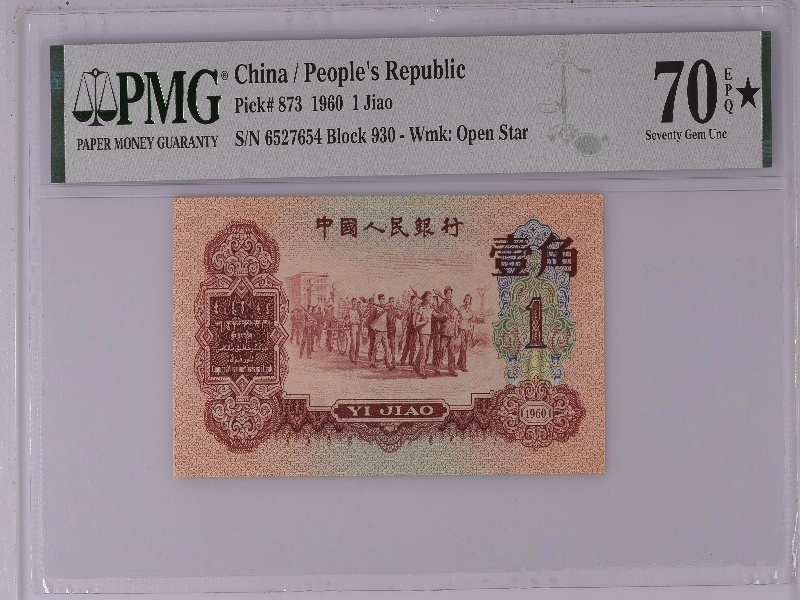papernote: (170, 191, 608, 478)
